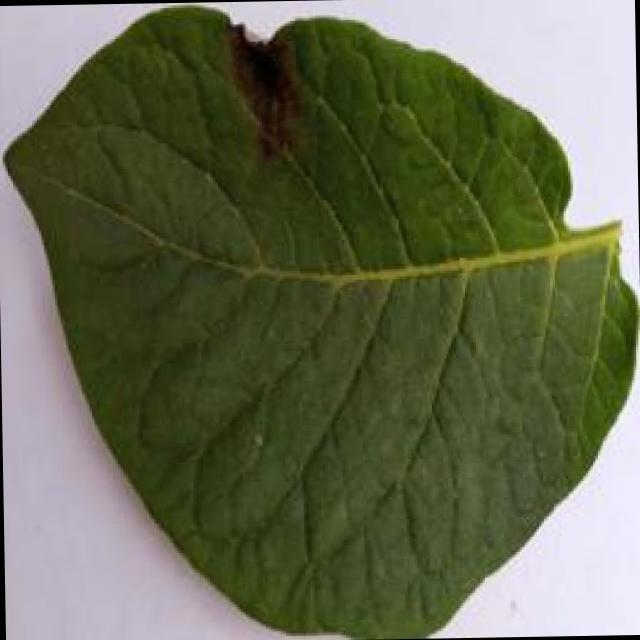Potato_Late_Blight: (2, 17, 633, 640)
